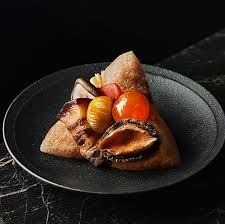zongzi: (40, 52, 180, 169)
